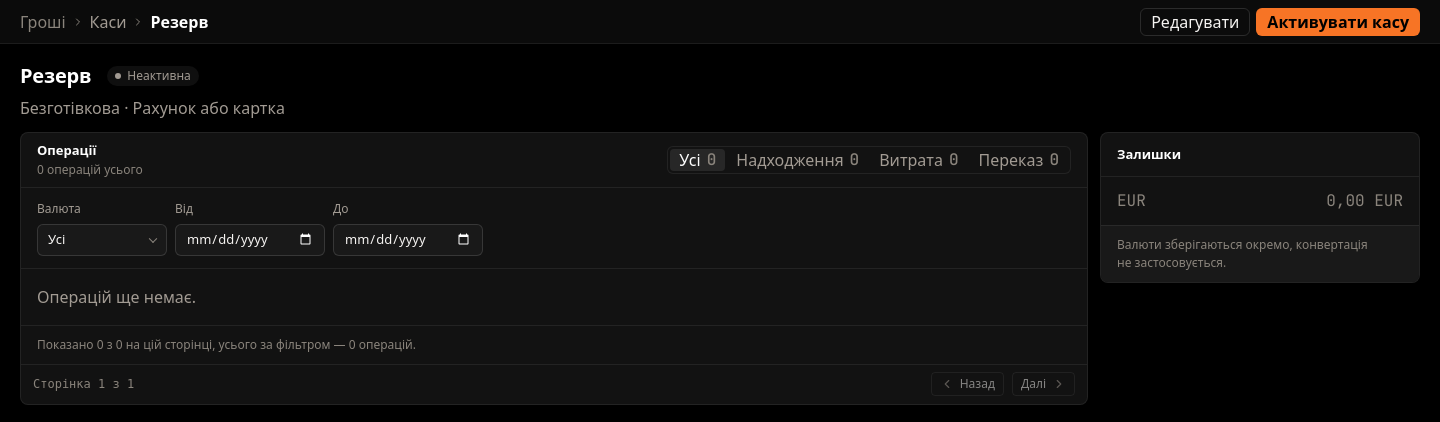
Test case: reactivates an inactive cash register and restores its active actions
Expected: the button "Нова операція" is not shown
Click the button "Активувати касу". click: (1338, 22)
box: [1256,8,1420,36]
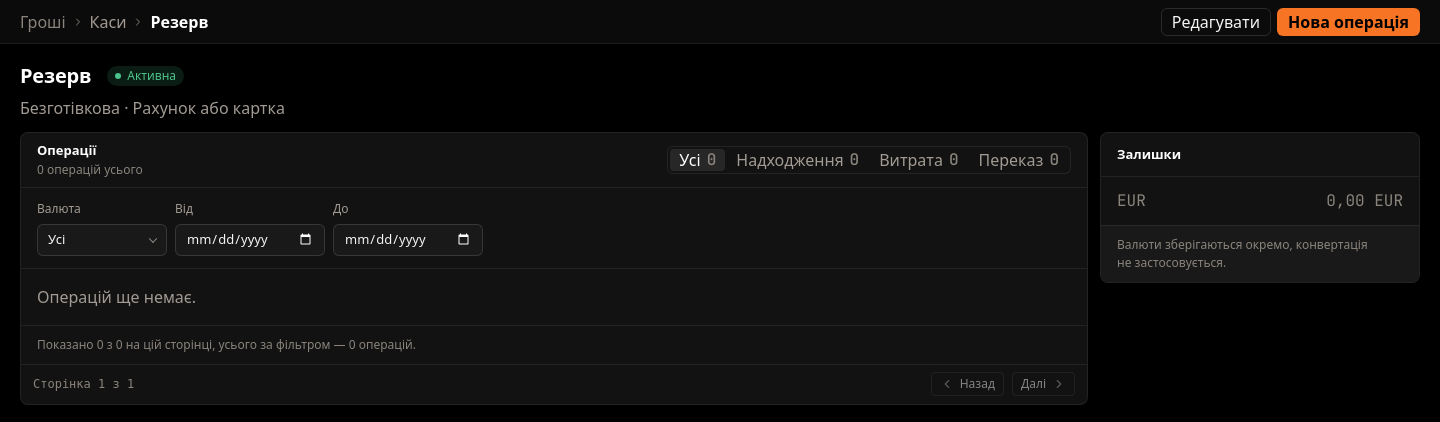
Result: the button "Нова операція" is shown at [1277,8,1420,36]
Result: the button "Активувати касу" is gone
